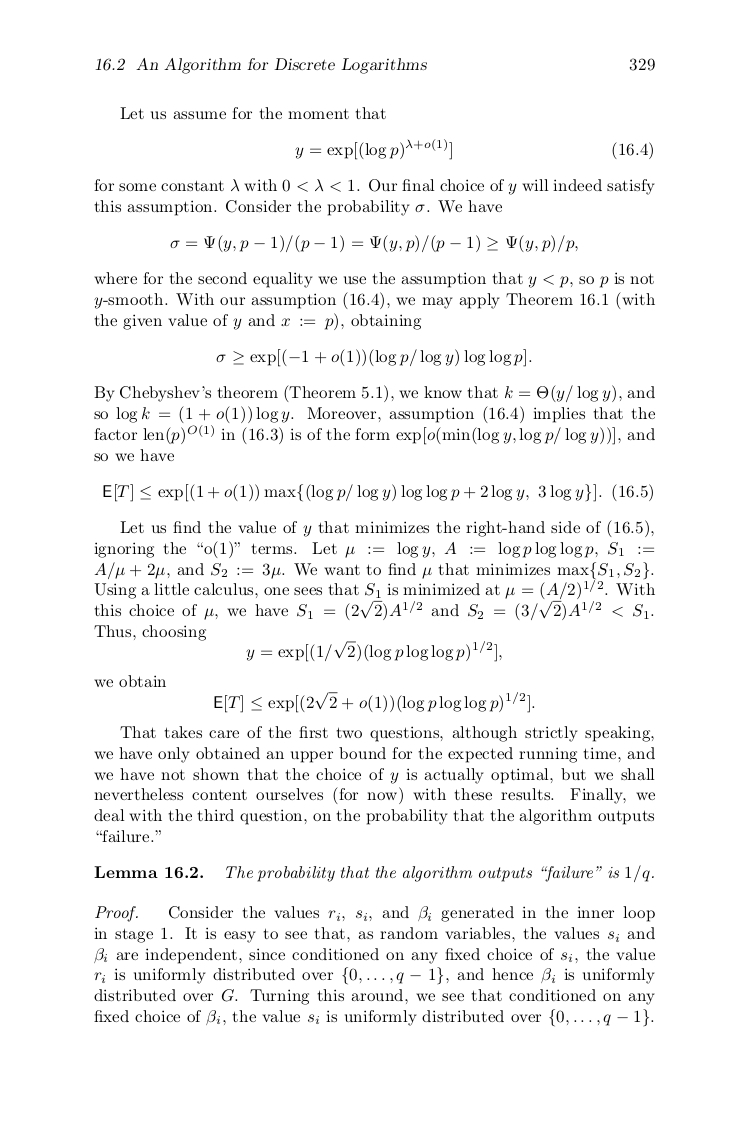formula: (103, 482, 652, 502), (295, 138, 652, 160), (170, 234, 577, 253), (214, 691, 534, 713), (216, 348, 531, 367), (246, 641, 501, 661)
